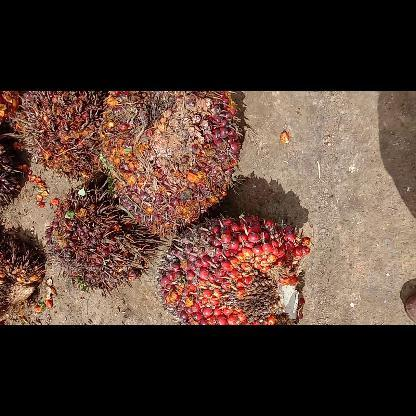TBS masak: (99, 91, 241, 233), (158, 214, 310, 324), (46, 180, 158, 292), (15, 90, 102, 178)
